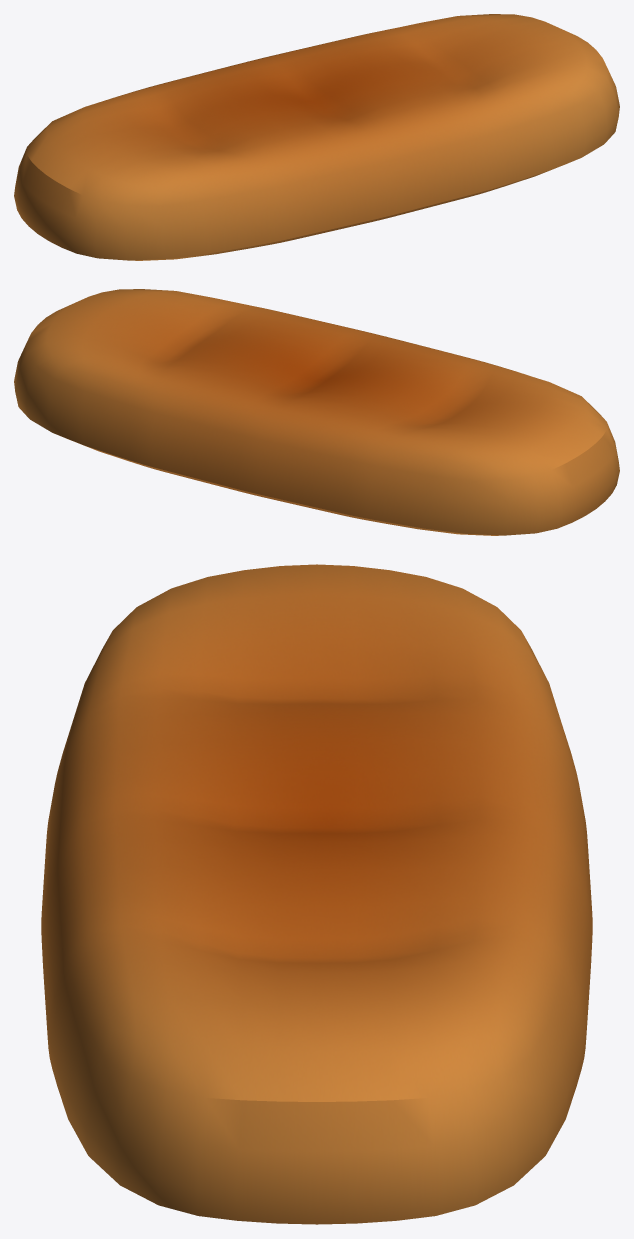
The model's file is Subway-Ham_Top.fbx.
3 views of the same model, one above another, from view 1: azimuth 30°, elevation 25°; view 2: azimuth 150°, elevation 25°; view 3: azimuth 270°, elevation 25° (orthographic). The views are drawn at different scales.
Visible parts, largest first — view 1: Bread-top.001; view 2: Bread-top.001; view 3: Bread-top.001.
Boxes of the visible parts, box(x1,y1,x2,y2) form: Bread-top.001: box(14, 14, 619, 260); Bread-top.001: box(14, 289, 619, 535); Bread-top.001: box(41, 564, 592, 1224).
Bounding box in the file's own units: 554 × 78.12 × 234.
